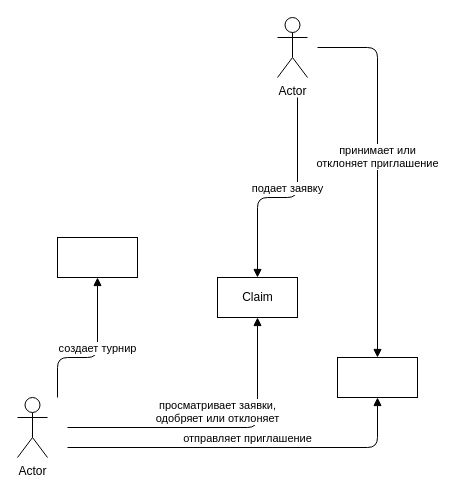
Image size: 456x496. Some labels were removed from this diagram. The shapes that lost their labels are listed below. From the top down, each one's box as (x1, y1, x2, y2) in pixels, then its label:
(56, 236, 138, 278): Tournament
(336, 356, 418, 398): Invite
